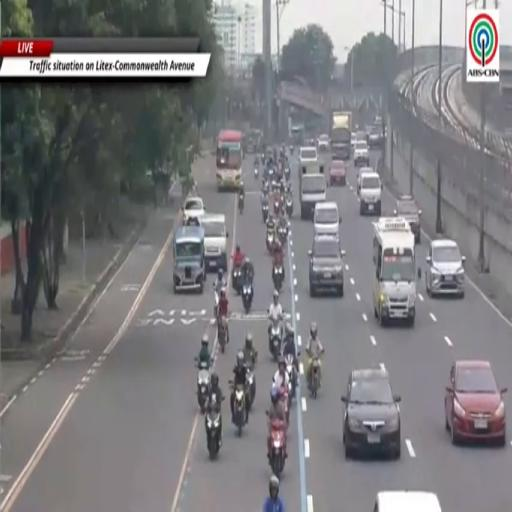bus: (216, 130, 243, 190)
car: (342, 367, 401, 458), (445, 360, 506, 445), (426, 239, 465, 298), (309, 235, 344, 296), (201, 214, 229, 271), (374, 491, 441, 511), (394, 196, 421, 243), (360, 172, 382, 216), (314, 202, 341, 237), (183, 196, 205, 223), (357, 167, 374, 195), (329, 160, 346, 185), (354, 140, 369, 167), (369, 124, 383, 149), (300, 146, 318, 163), (317, 135, 329, 151), (351, 132, 357, 150), (357, 131, 367, 141)
jeepney: (173, 227, 206, 293)
motorcycle: (270, 421, 285, 478), (230, 381, 245, 437), (195, 358, 209, 413), (206, 408, 221, 459), (285, 355, 296, 402), (270, 320, 282, 361), (309, 358, 320, 398), (280, 387, 290, 425), (218, 317, 228, 353), (247, 367, 255, 410), (242, 283, 253, 313), (272, 265, 284, 292), (232, 266, 241, 294), (277, 224, 288, 246), (285, 193, 293, 218), (266, 231, 274, 252), (214, 288, 219, 321), (239, 191, 244, 214), (262, 204, 268, 222), (274, 199, 280, 215), (268, 168, 275, 181), (285, 166, 290, 181), (254, 167, 258, 179), (289, 146, 294, 154)
truck: (300, 172, 326, 219), (330, 111, 351, 161)
